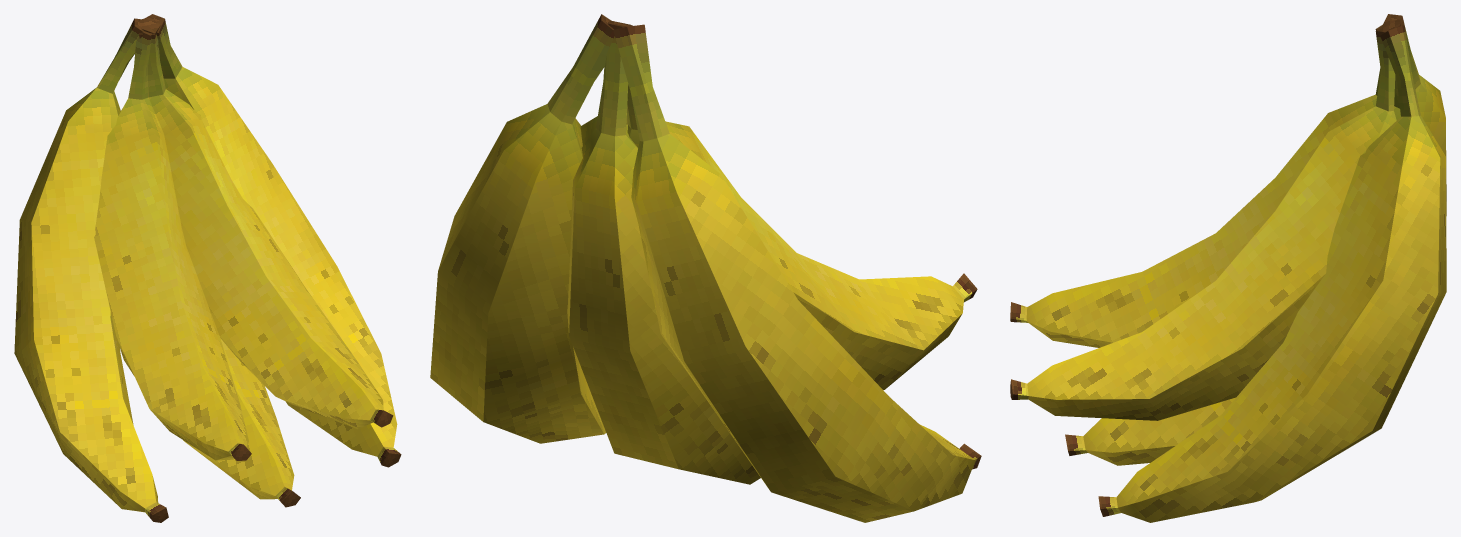
Rendered from BananaBunch.fbx.
The picture shows the model from 3 angles, left to right: view 1: azimuth 30°, elevation 25°; view 2: azimuth 150°, elevation 25°; view 3: azimuth 270°, elevation 25°; orthographic projection. The views are drawn at different scales.
Parts seen in each view (by area): view 1: NanaBunch; view 2: NanaBunch; view 3: NanaBunch.
Part boxes in pixels (x1,y1,x2,y2): NanaBunch: (14, 14, 401, 522); NanaBunch: (430, 14, 981, 522); NanaBunch: (1010, 14, 1446, 522).
Size of the model in its own units: 23.05 by 26.66 by 23.96.
